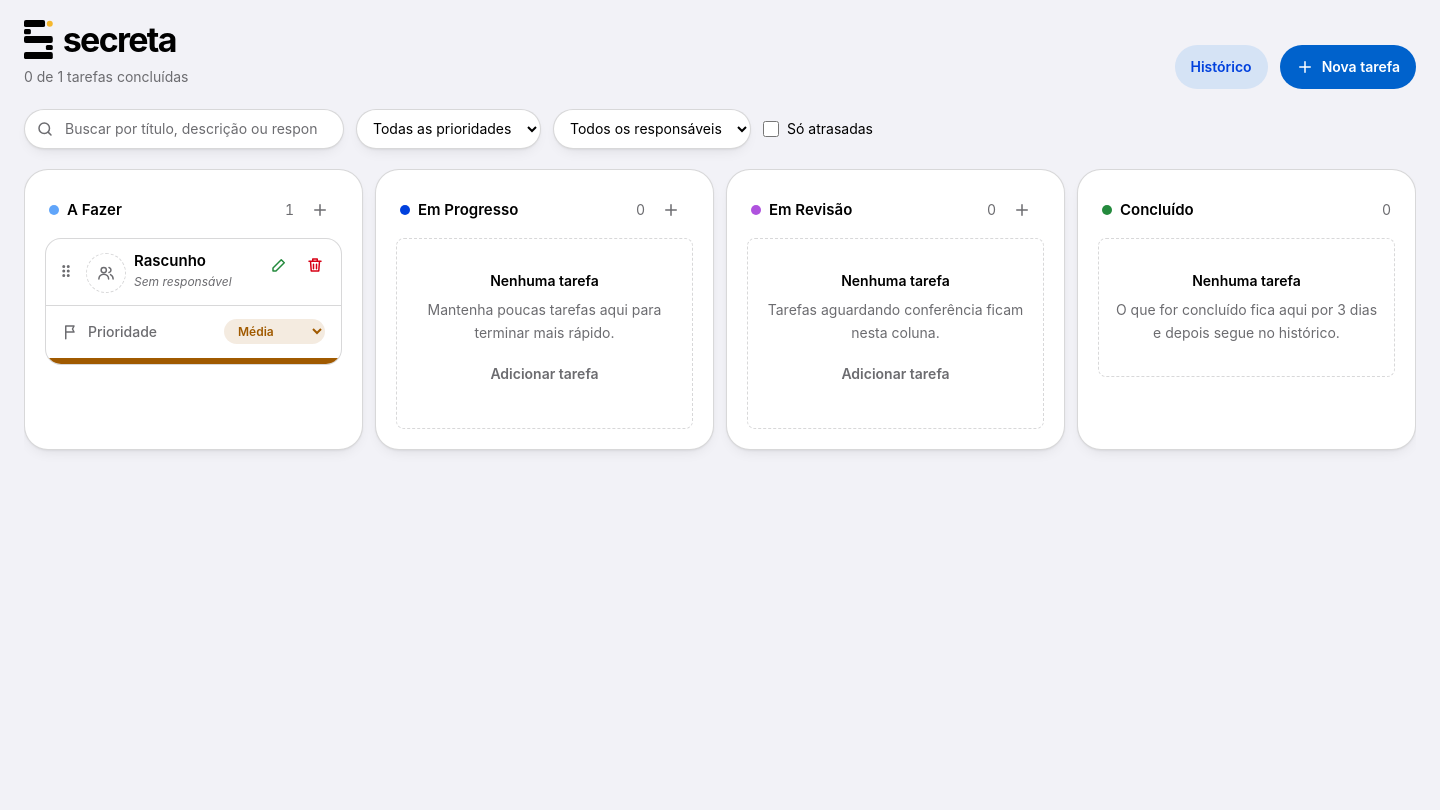
Scenario: App › edita uma tarefa e muda a prioridade no cartão
The image size is (1440, 810).
Select "Urgente" in the dropdown named "Prioridade de Rascunho" at (274, 332), box [224,319,325,344]
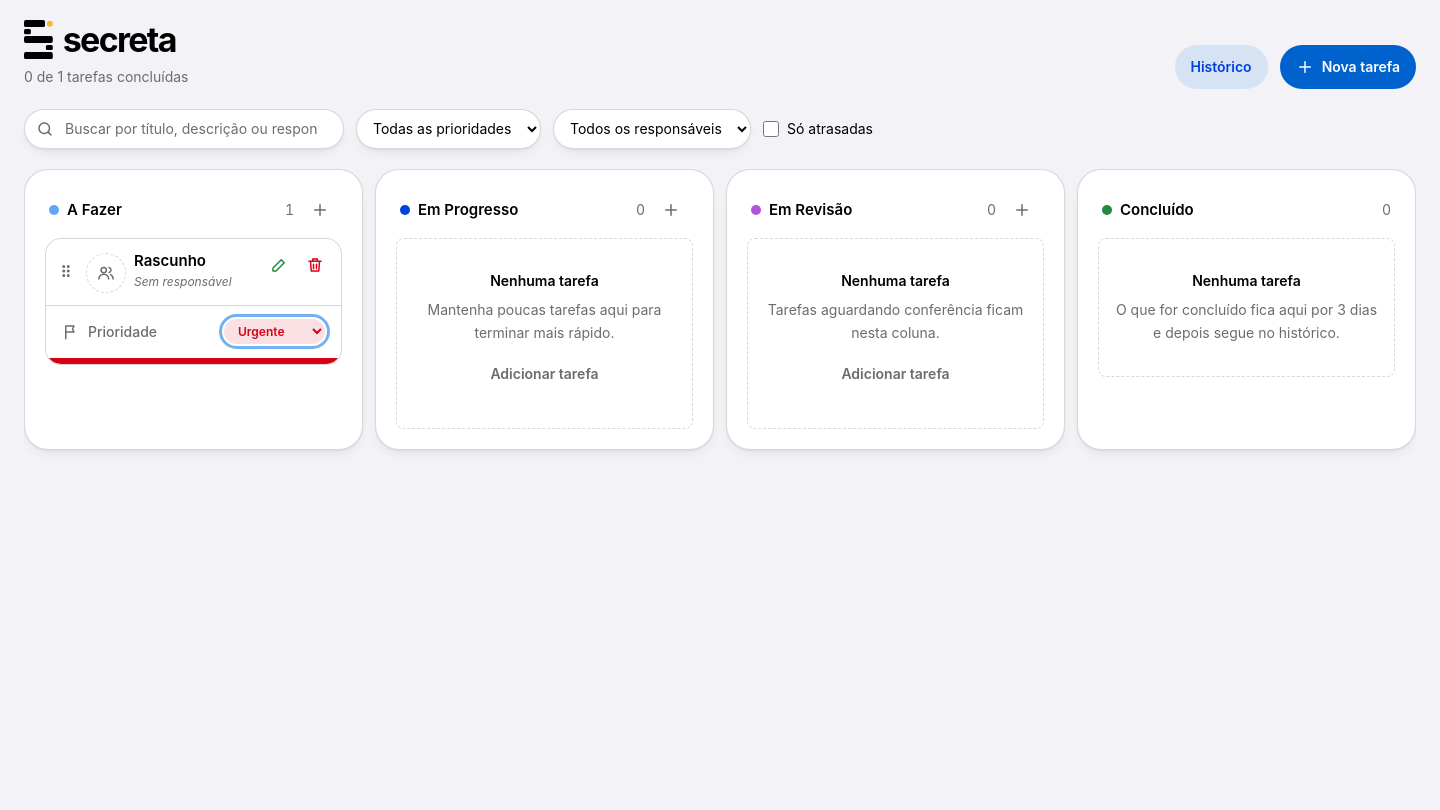
Click the button named "Editar Rascunho".
click(279, 265)  # box [261,247,297,283]
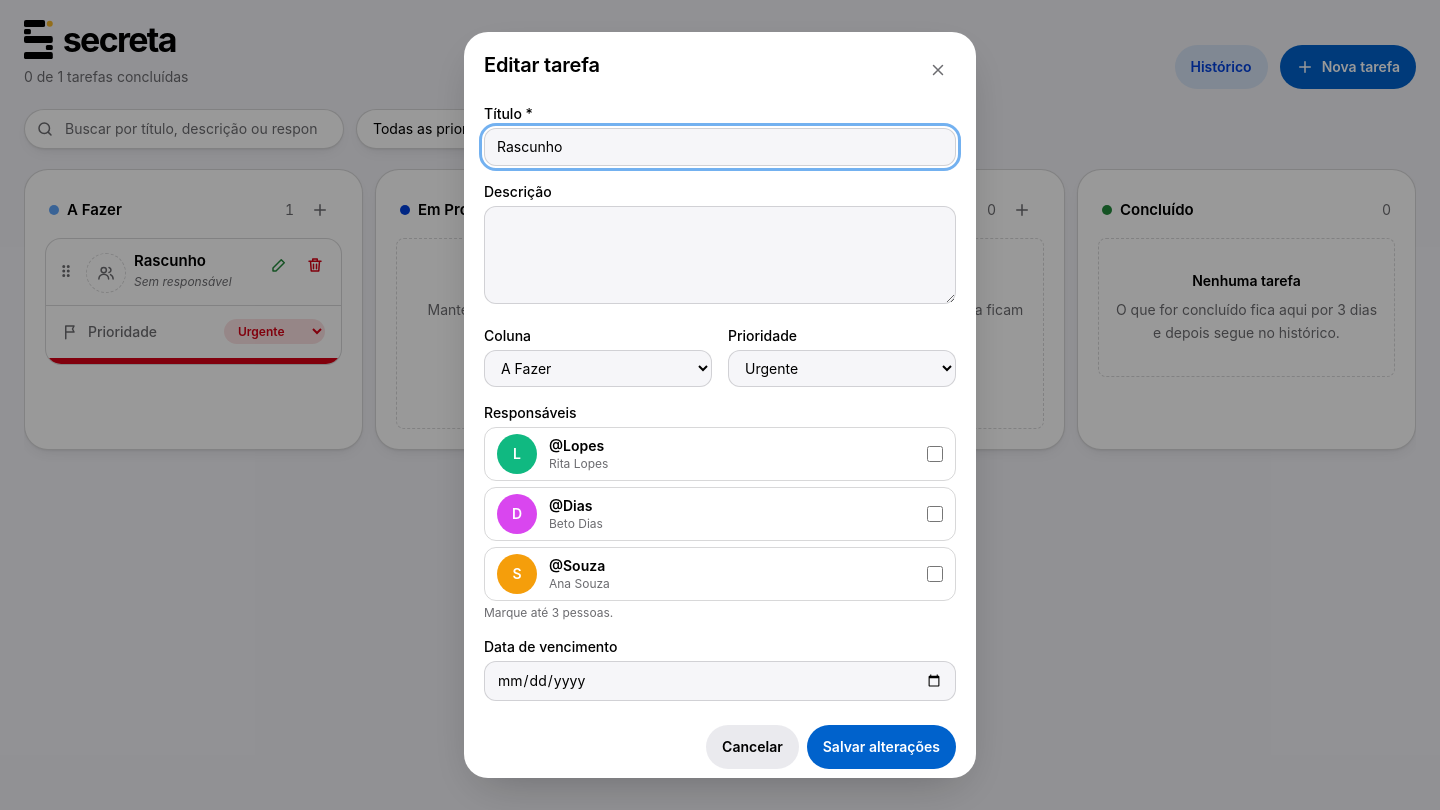
Replace the text in the field labelled "Título *" with "Versão final" at (720, 147), box [484,128,956,166]
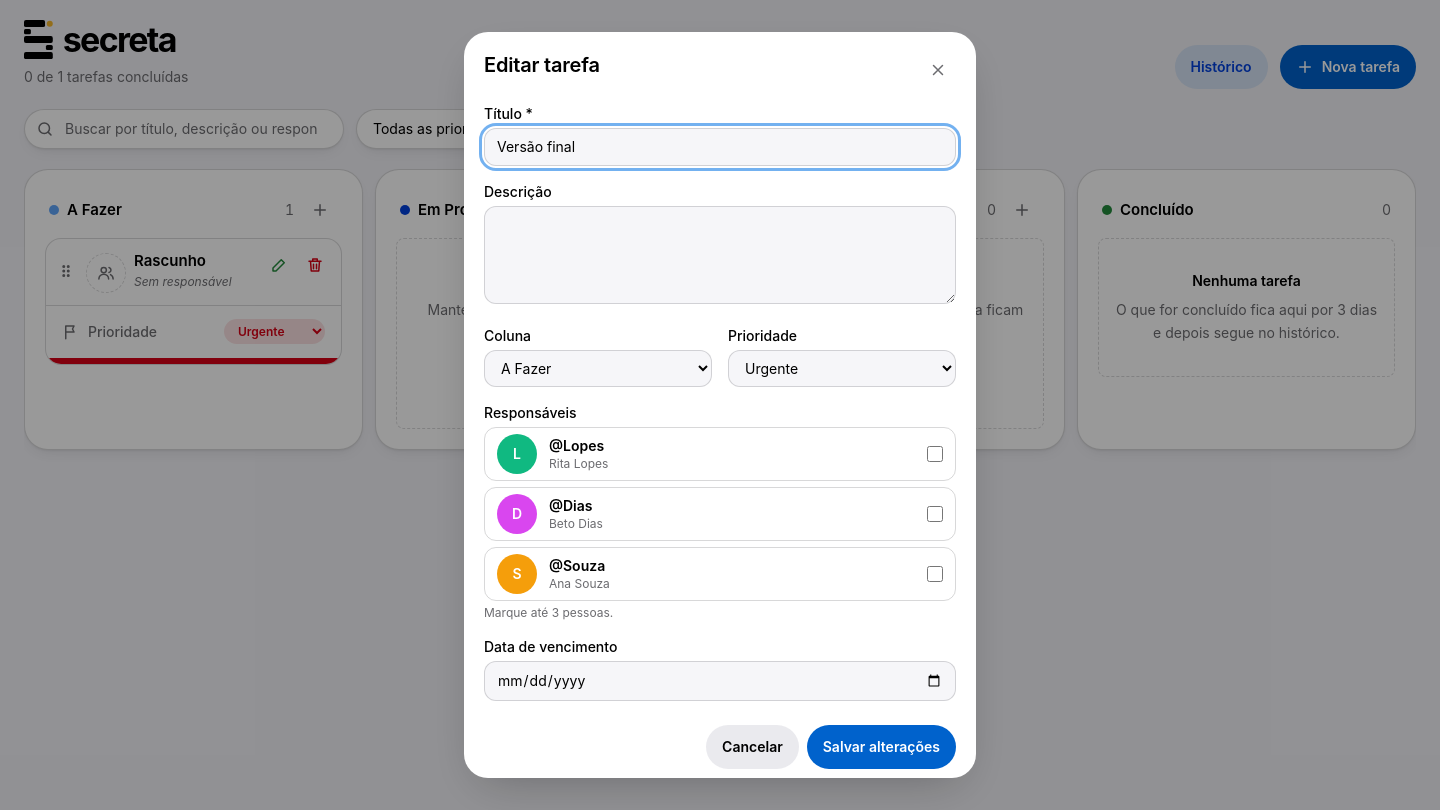
Click the button "Salvar alterações".
click(881, 747)  # box [807,725,956,769]
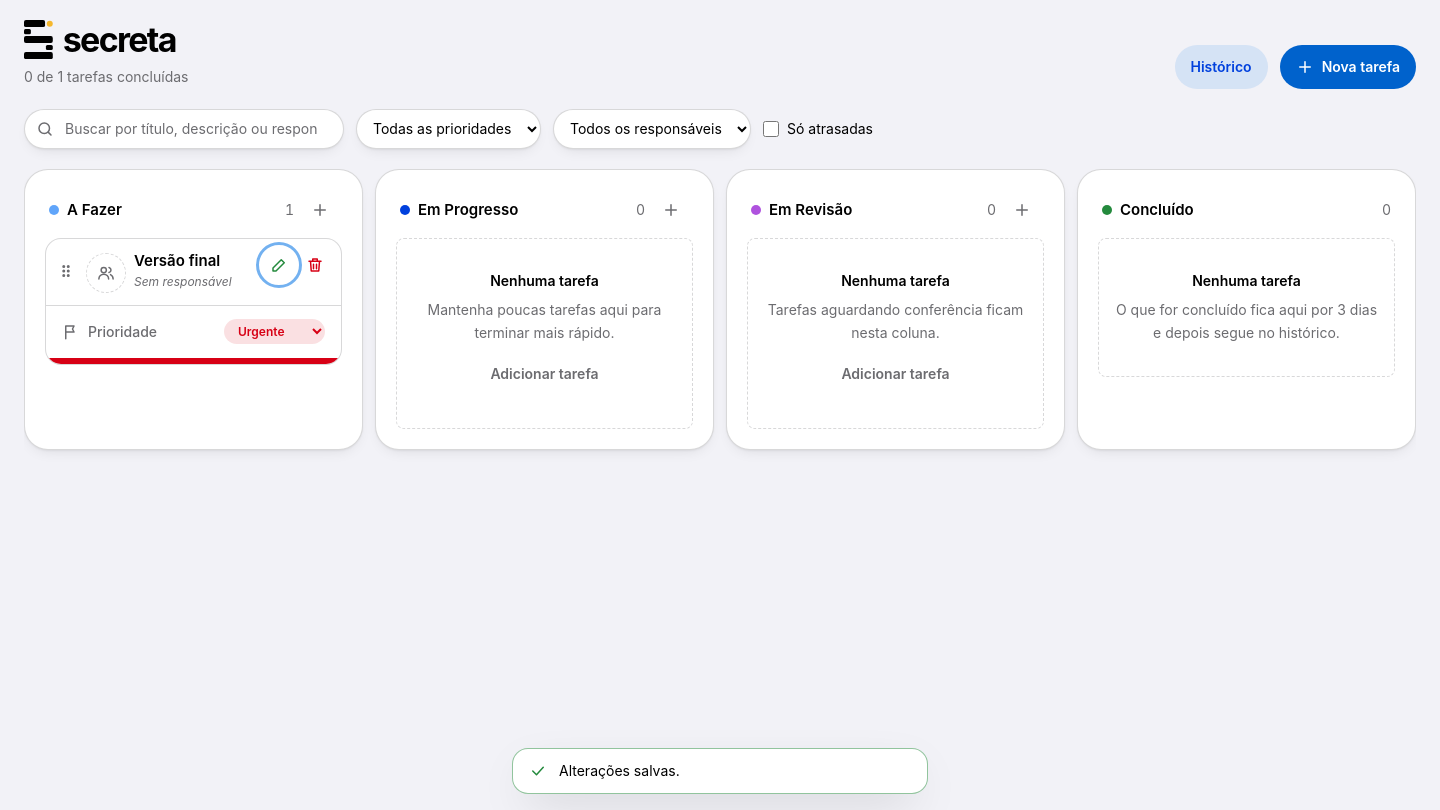
Result: the heading "Versão final" is shown at [134,251,220,270]
